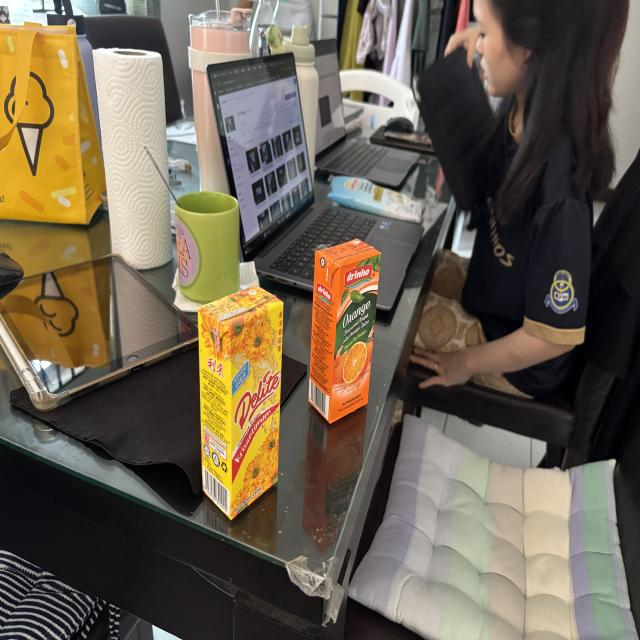drink_carton: (192, 276, 286, 525), (306, 230, 383, 436)
